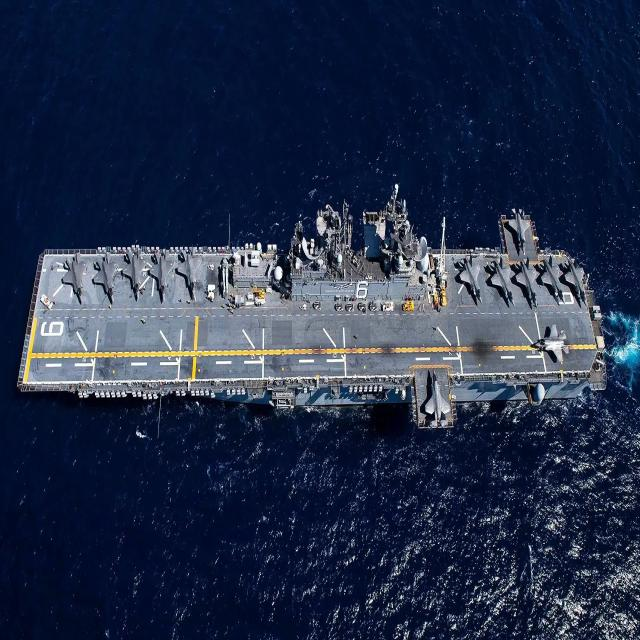Landing-Ship-Yushen-Class-075-CHI: (19, 174, 606, 433)
